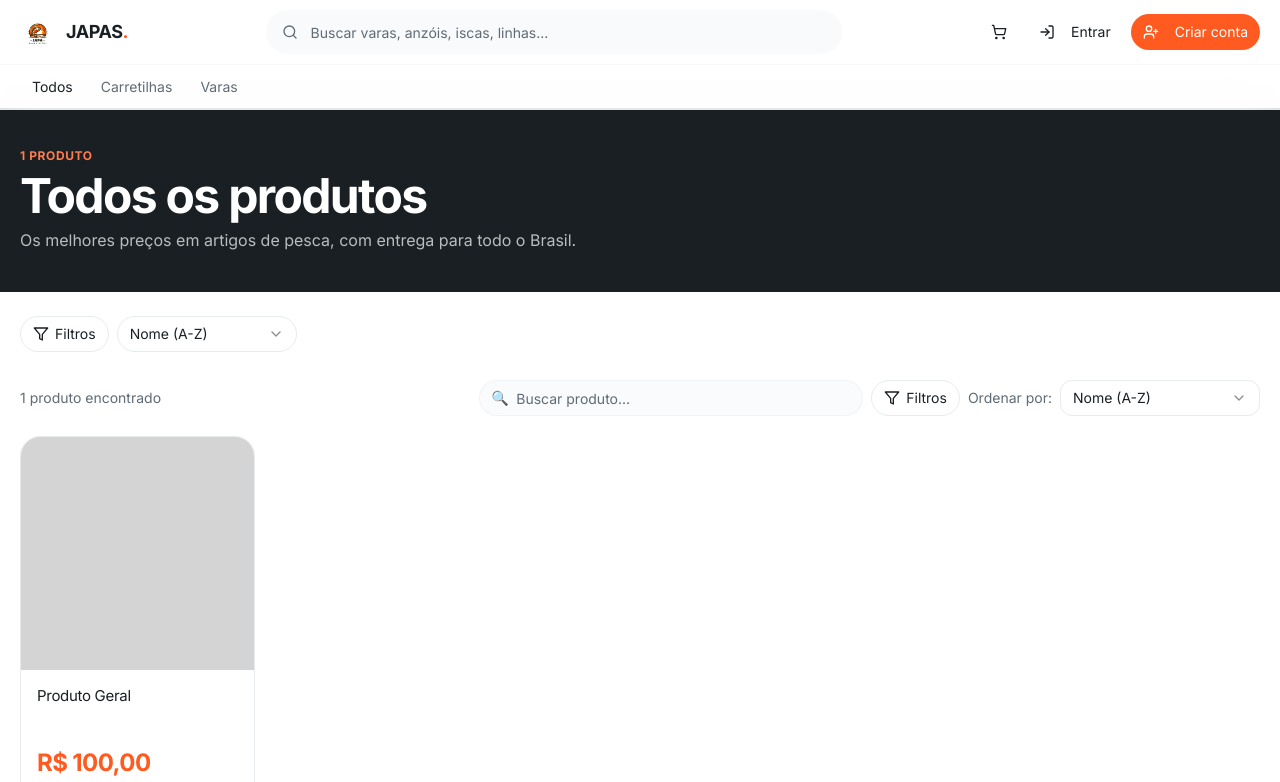
Scenario: ProductListing › deve trocar produtos ao clicar em uma categoria
Expected: the heading "Produto Geral" is shown, x1=37 y1=686 x2=131 y2=705
Click the button "Carretilhas".
click(137, 87)  # box x1=89 y1=71 x2=184 y2=103
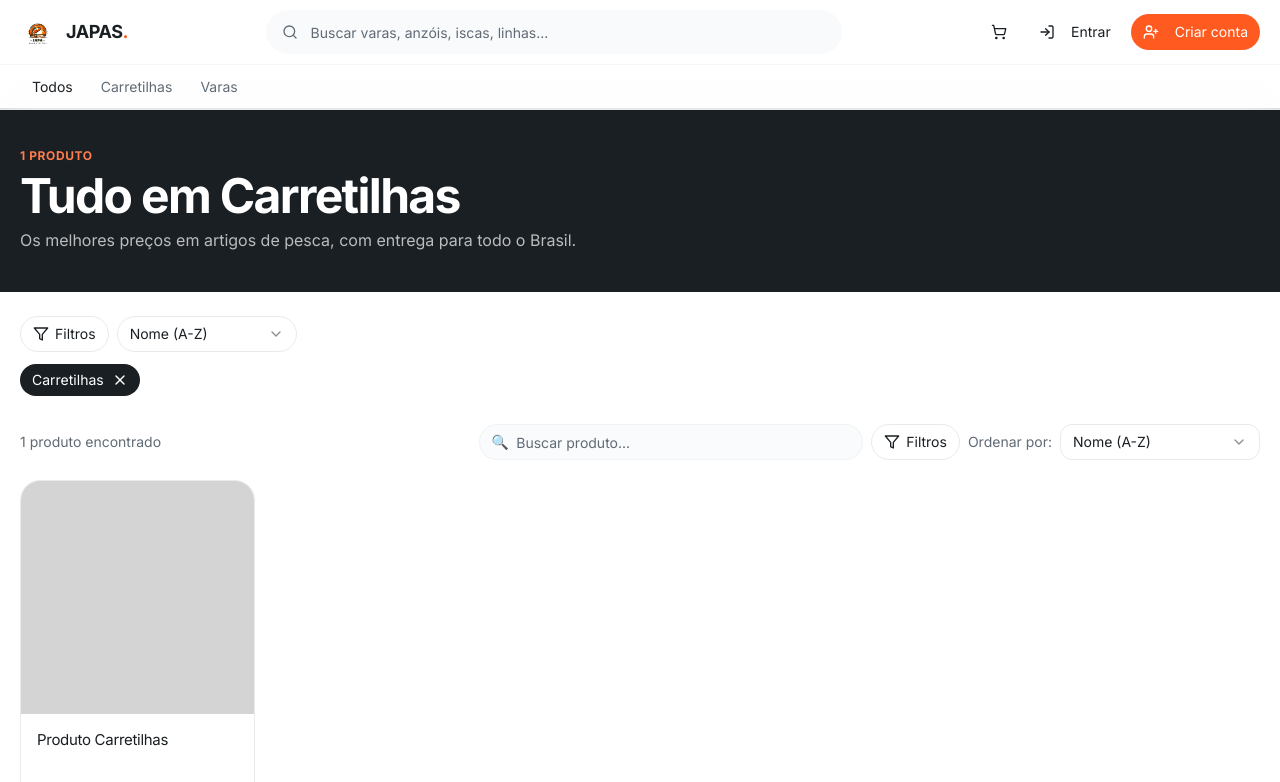
Expected: the heading "Produto Carretilhas" is shown, x1=37 y1=730 x2=168 y2=749
